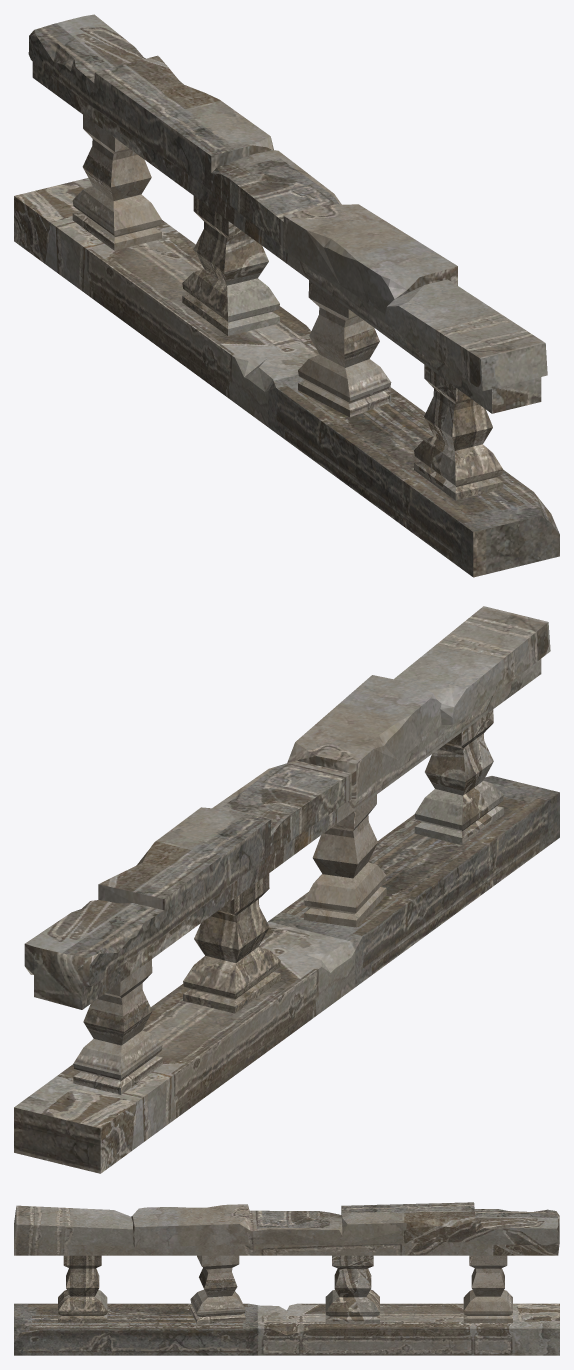
Rendered from bg_lut_lutomb_fence01a_sm_old.FBX.
The picture shows the model from 3 angles, top to bottom: view 1: azimuth 30°, elevation 25°; view 2: azimuth 150°, elevation 25°; view 3: azimuth 270°, elevation 25°; orthographic projection. The views are drawn at different scales.
Parts seen in each view (by area): view 1: bg_lut_lutomb_fence01a_sm_old; view 2: bg_lut_lutomb_fence01a_sm_old; view 3: bg_lut_lutomb_fence01a_sm_old.
Part boxes in pixels (x1=…): bg_lut_lutomb_fence01a_sm_old: x1=14, y1=14, x2=559, y2=577; bg_lut_lutomb_fence01a_sm_old: x1=14, y1=606, x2=559, y2=1173; bg_lut_lutomb_fence01a_sm_old: x1=14, y1=1202, x2=559, y2=1355.
Bounding box in the file's own units: 27.87 × 67.59 × 256.
